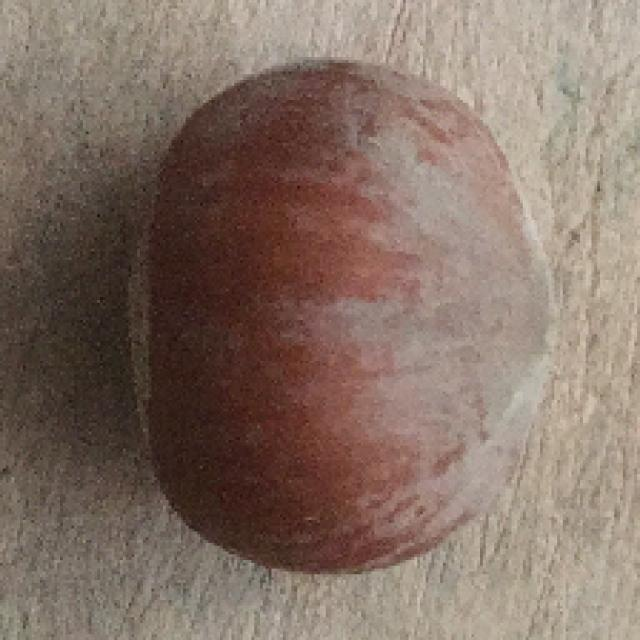qualityHazelnut: (134, 55, 558, 573)
